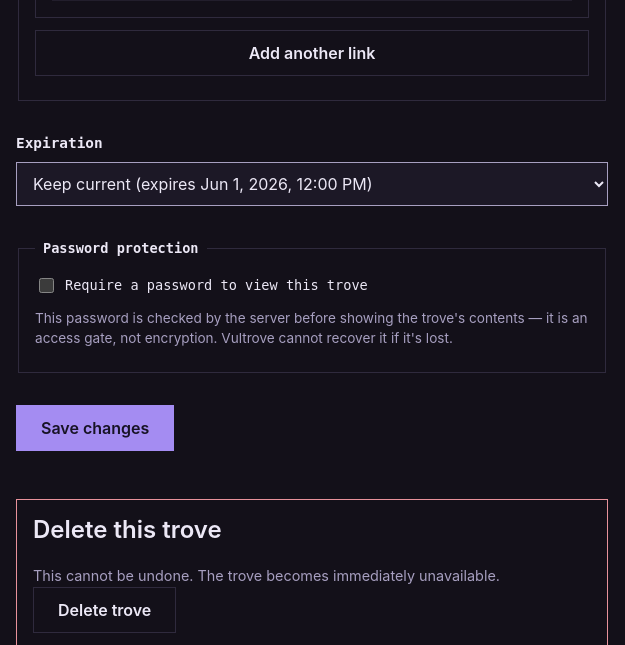
password protection › reflects the PATCH response’s passwordProtected after a successful save
(page scrolled)
Click the checkbox labelled "Require a password to view this trove" at (46, 285), box [39,278,54,292]
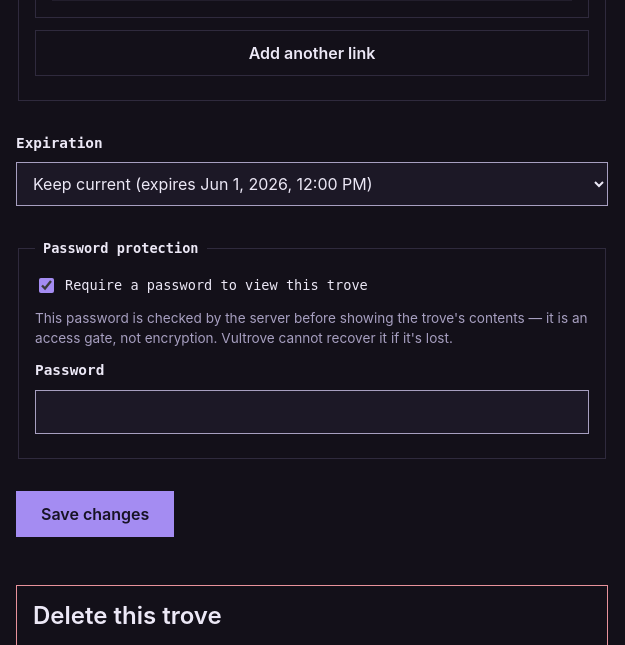
Type "hunter2" into the password field labelled "Password" at (312, 412), box [35,390,589,434]
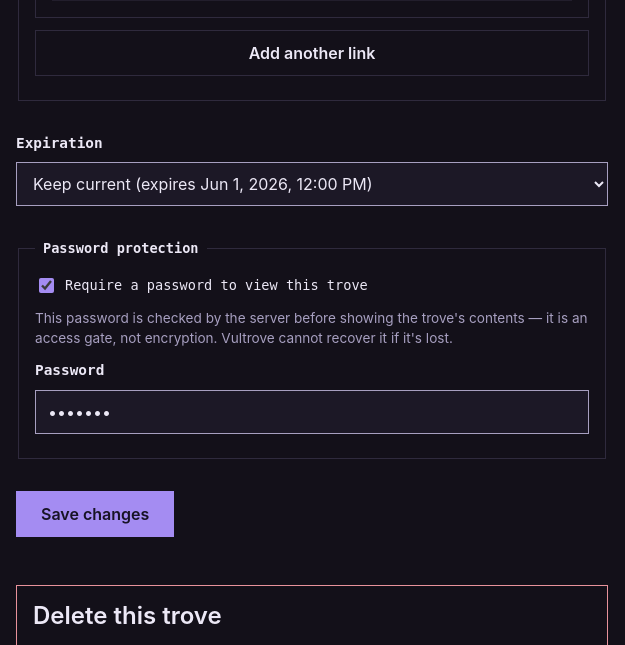
Click the button "Save changes" at (95, 514), box [16,491,174,537]
(page scrolled)
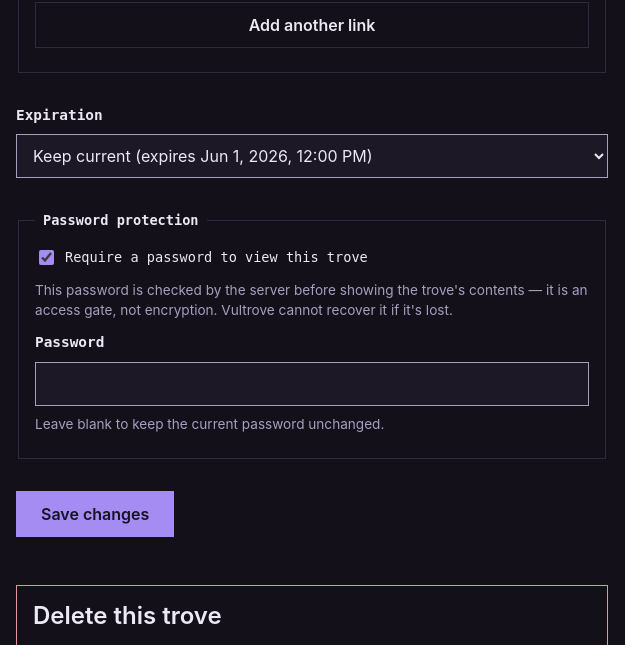
Expected: the checkbox labelled "Require a password to view this trove" is checked, [39,250,54,264]
Expected: the password field labelled "Password" is empty, [35,362,589,406]
